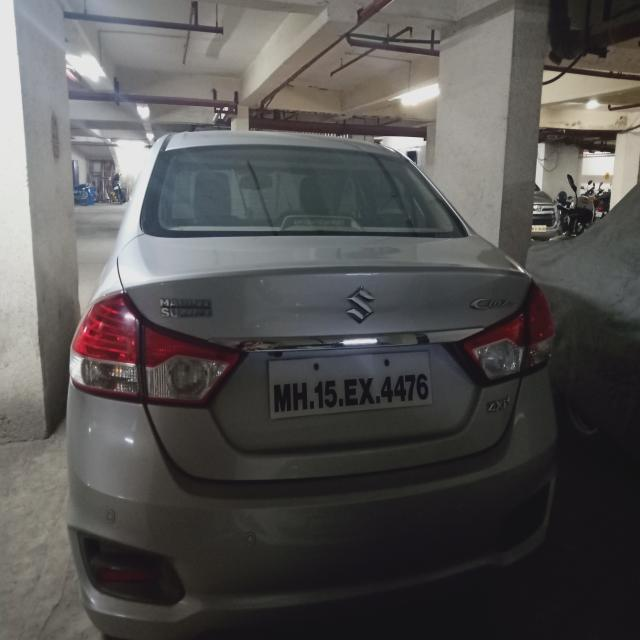Number-Plate: (274, 353, 430, 418)
